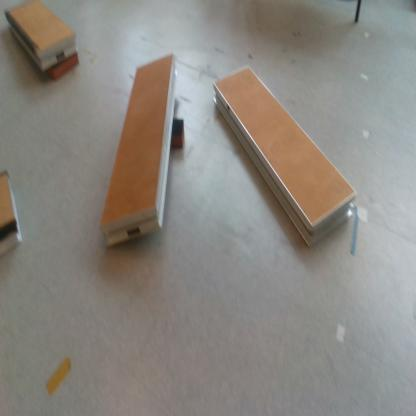Stairs: (215, 66, 357, 251), (103, 56, 178, 248), (5, 1, 80, 76), (1, 172, 19, 247)
